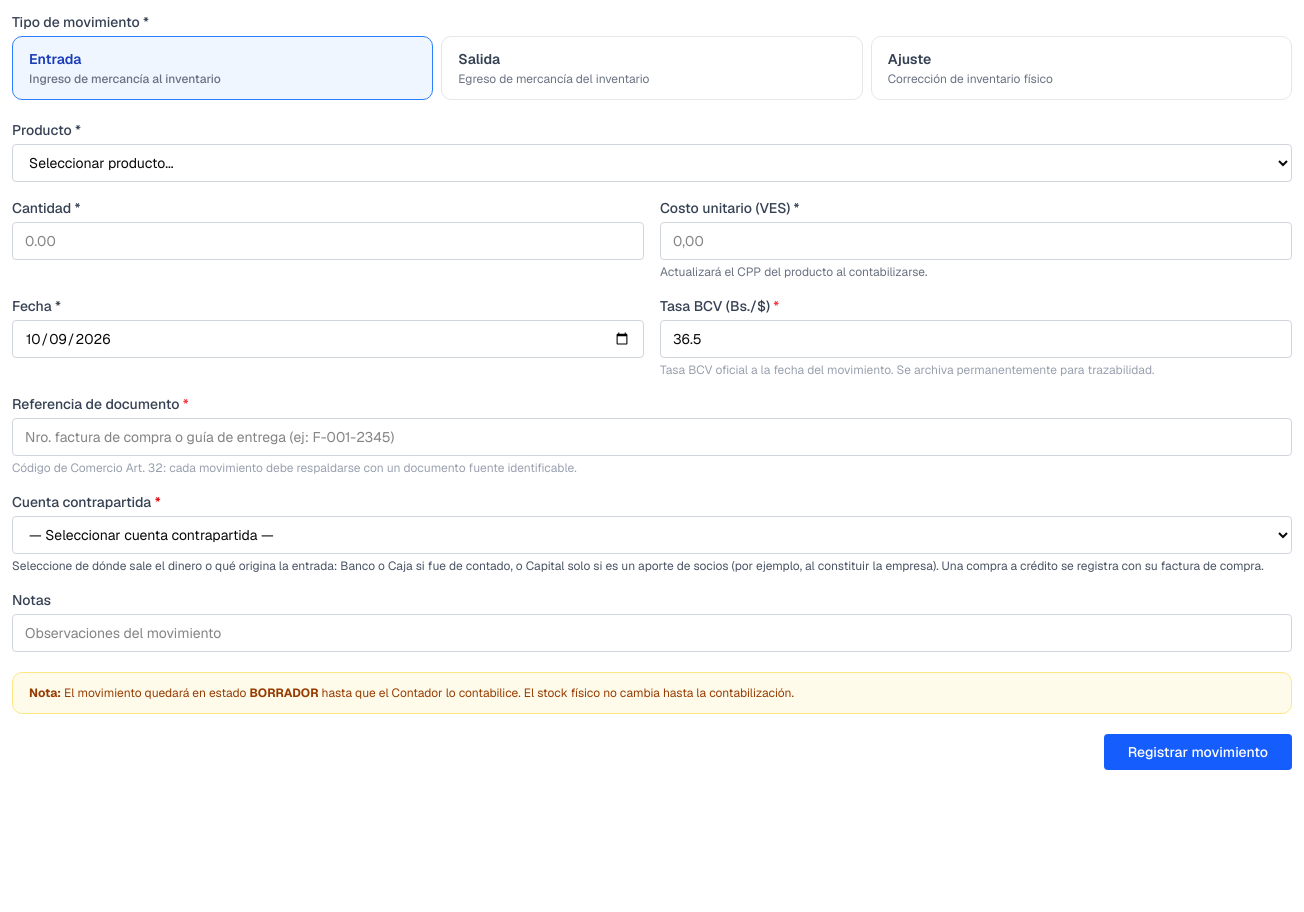
it: MovementForm — contrapartida obligatoria en ENTRADA (SPEC-007) › SALIDA: el selector de contrapartida no aparece
Check: the dropdown labelled "Cuenta contrapartida *" is shown, box [12, 516, 1292, 554]
Click the button "Salida Egreso de mercancía del inventario": x=652, y=68 [441, 36, 863, 100]
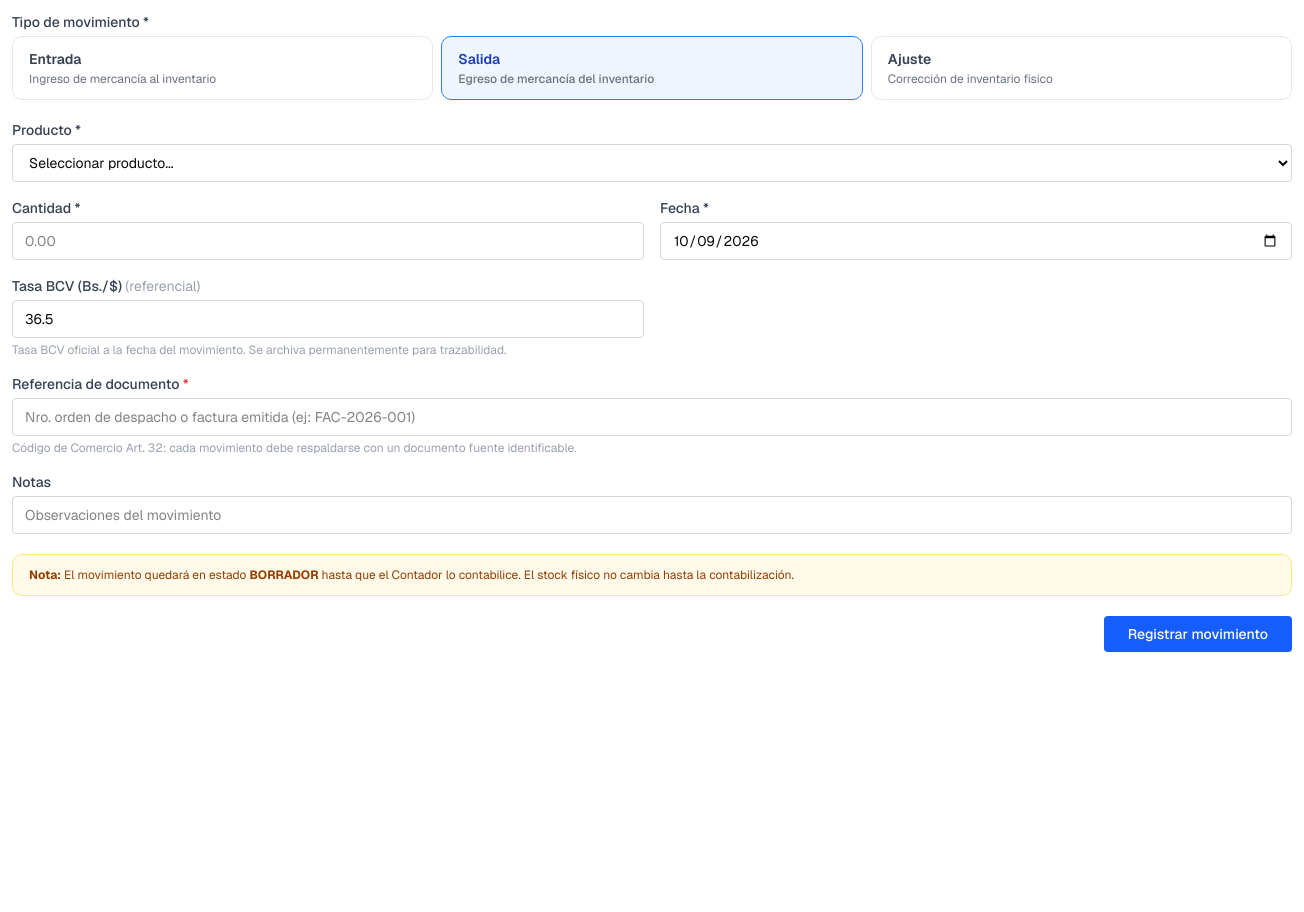
Check: the label labelled "Cuenta contrapartida" is gone
Check: the text "Capital solo si es un aporte de socios" is gone
